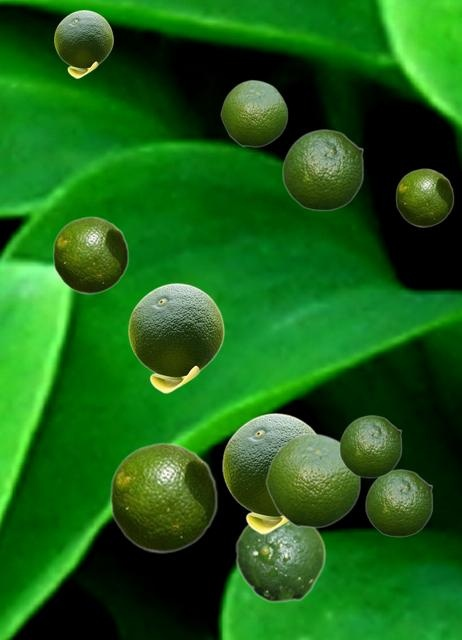calamansi: (109, 442, 217, 552), (222, 413, 316, 533), (128, 283, 223, 392), (265, 432, 360, 527), (235, 523, 325, 602), (282, 129, 363, 210), (52, 216, 128, 293), (365, 469, 432, 536), (220, 79, 287, 146), (54, 10, 112, 77), (339, 415, 401, 477), (395, 168, 453, 226)
